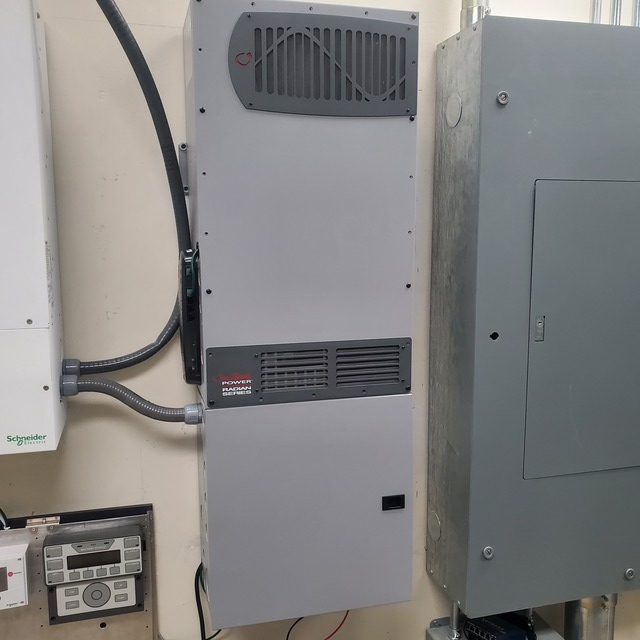inverter: (182, 1, 413, 631)
